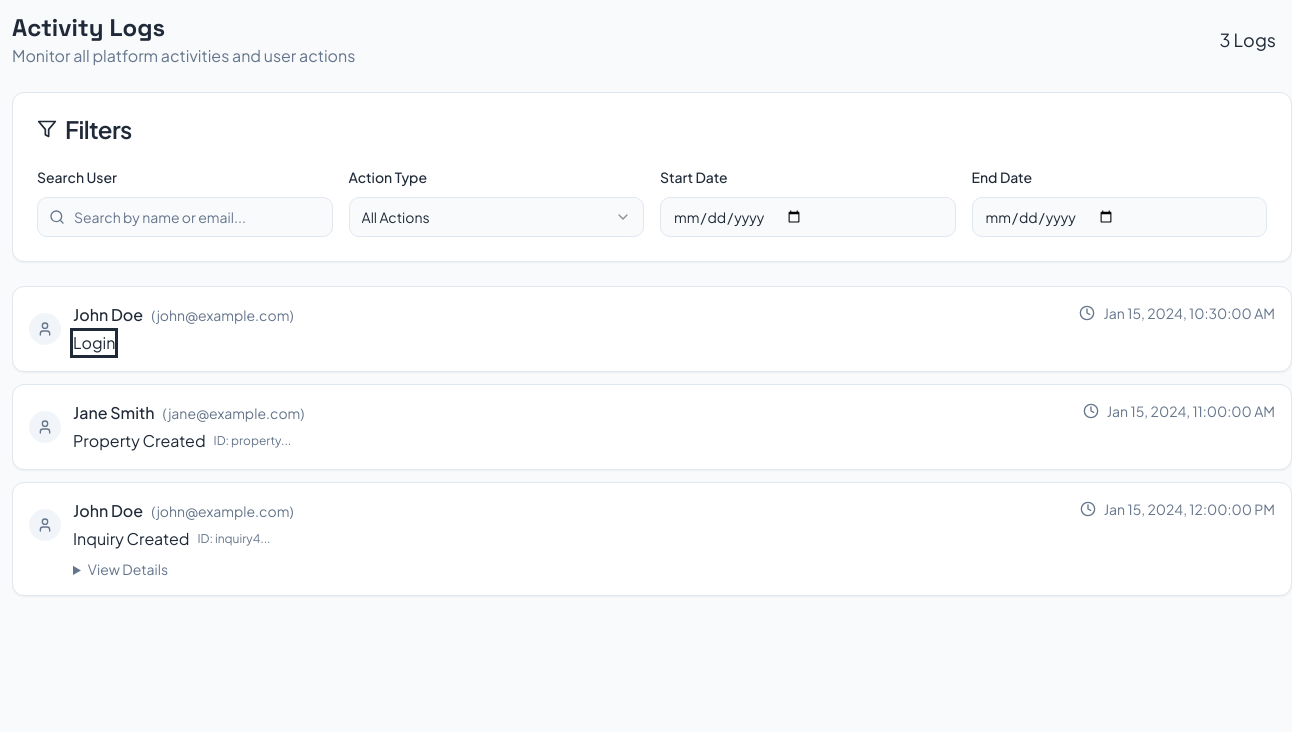
Scenario: ActivityLog Component › Filtering › should reset filters when reset button is clicked
Apply a search filter
In the field with placeholder "Search by name or email...": (185, 217) [37,197,332,237], type "John"
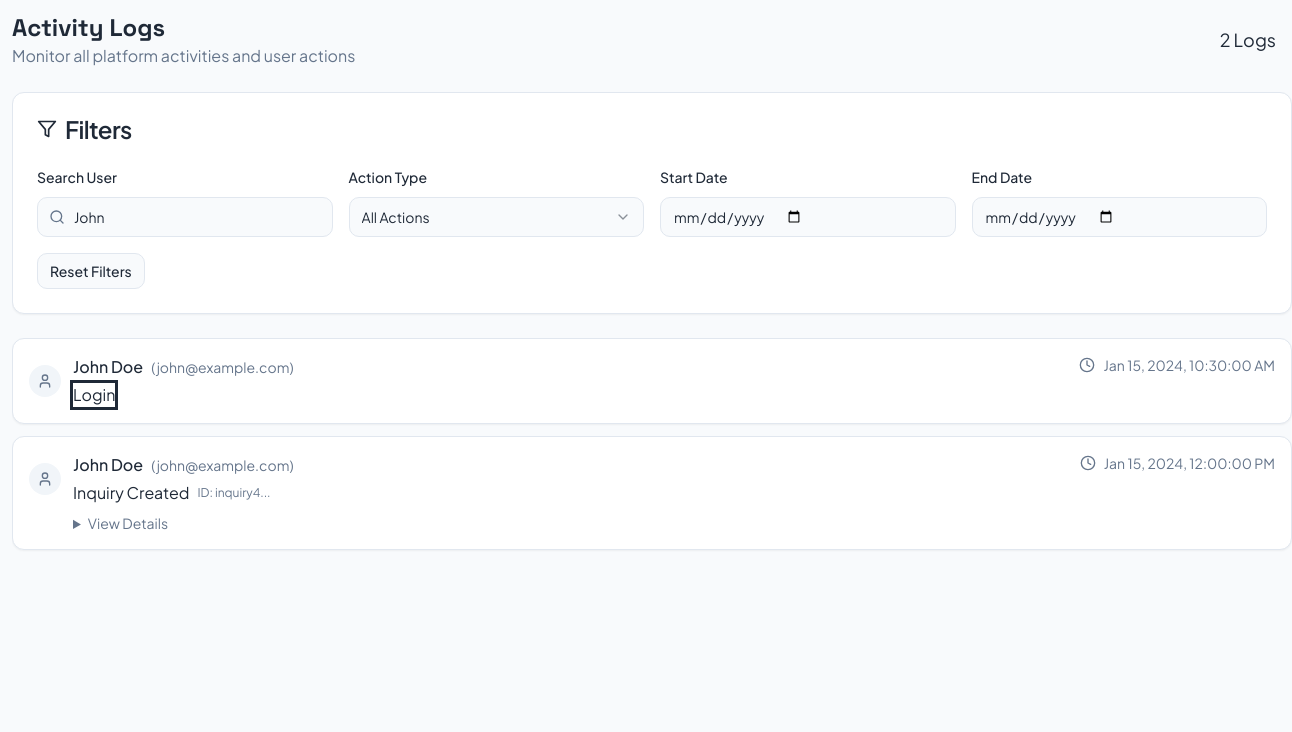
expect the button "Reset Filters" is shown: met
Click the button "Reset Filters": (91, 271) [37,253,145,289]
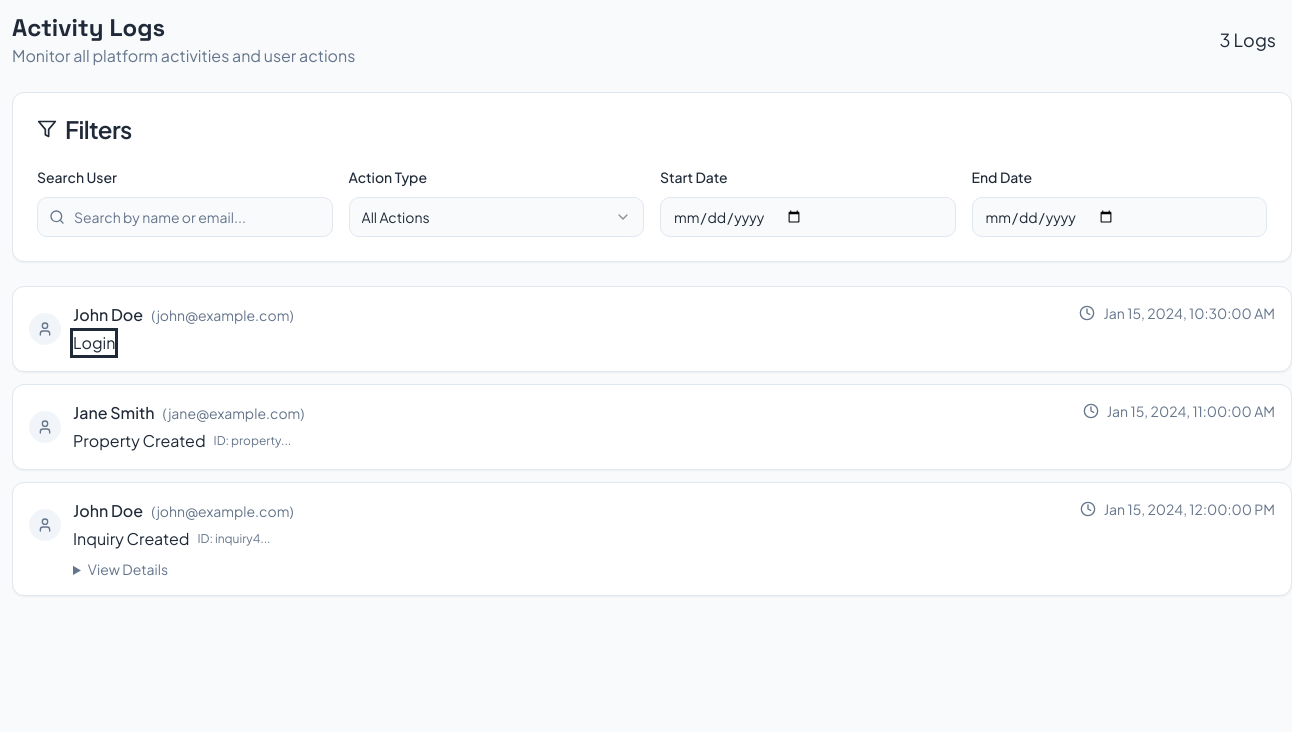
expect the field with placeholder "Search by name or email..." is empty: met, box [37,197,332,237]
